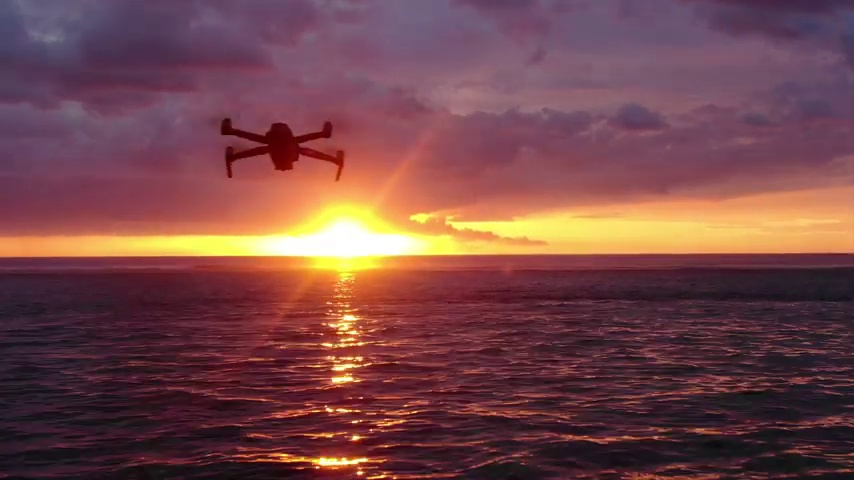drone: (219, 115, 344, 184)
